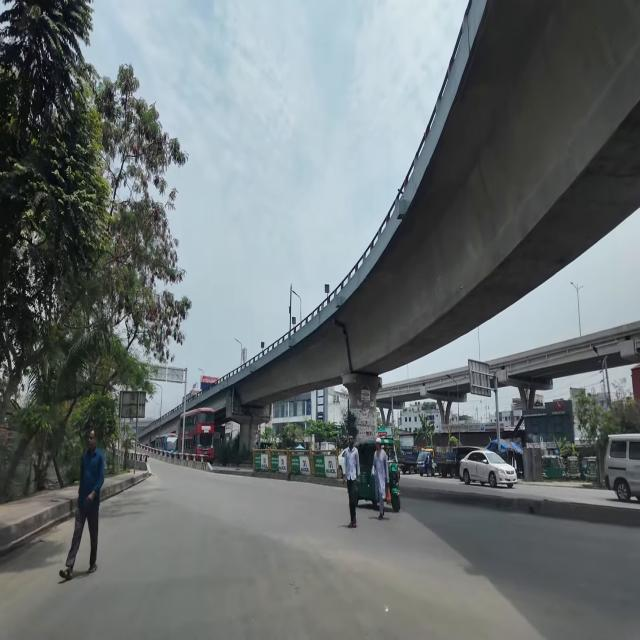person: (58, 426, 106, 582), (342, 433, 361, 529), (372, 436, 392, 520)
